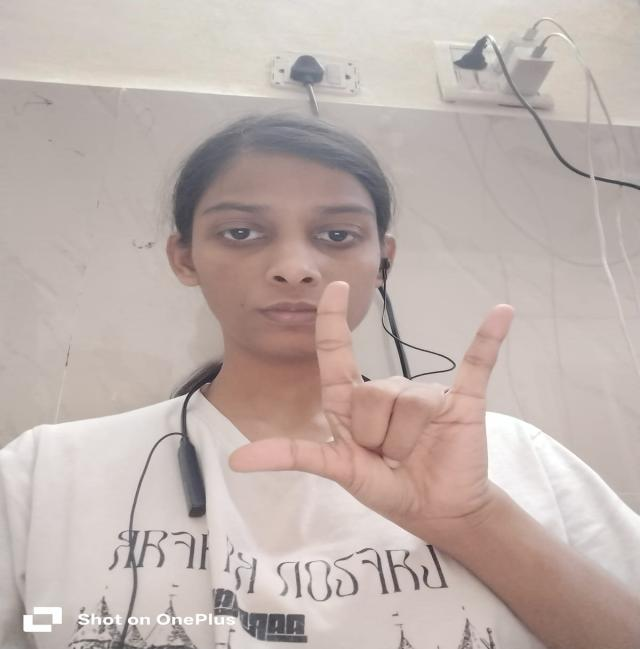I Love You: (224, 271, 546, 535)
